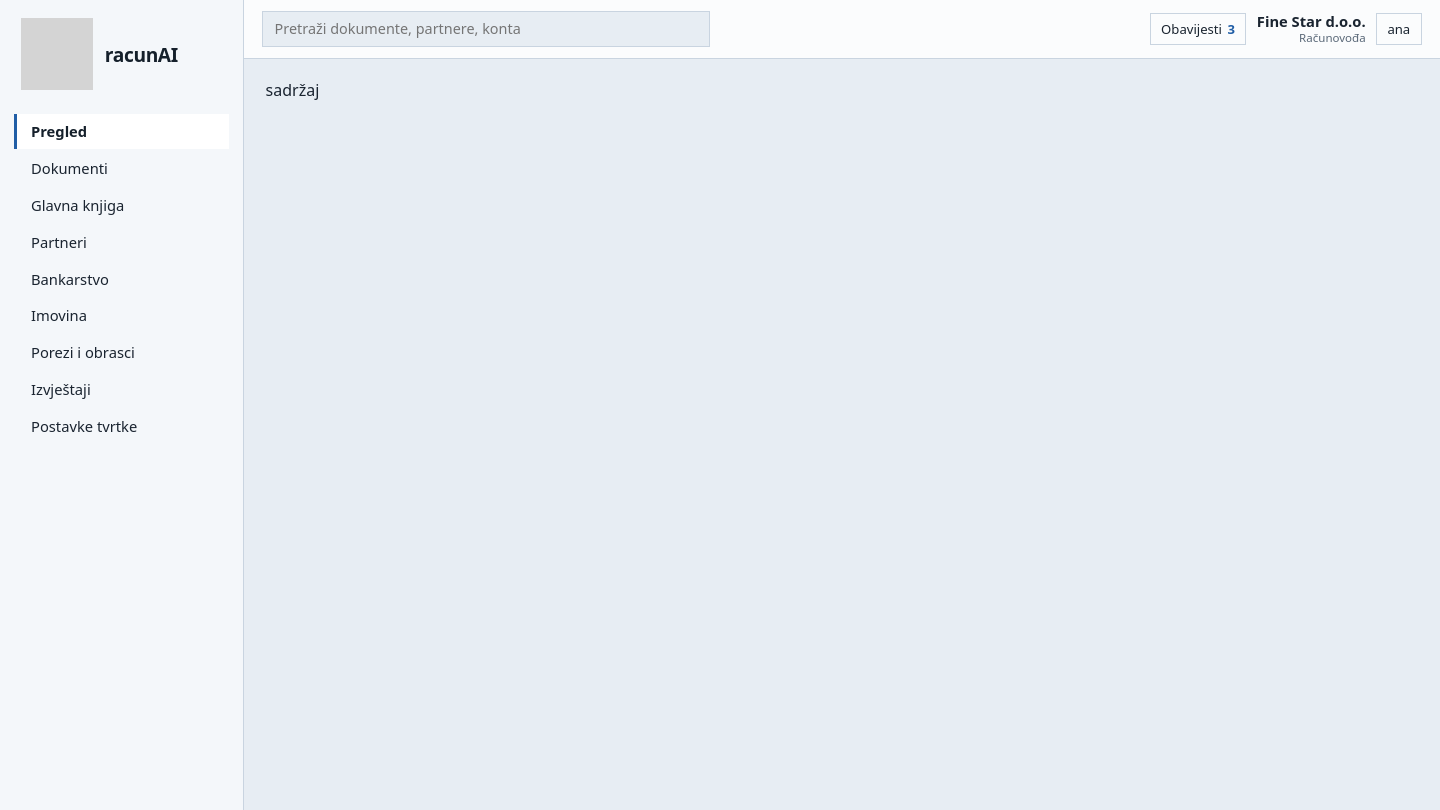
Test: AppShell › shows Admin only in the user menu when the backend flag is true
This screenshot has width=1440, height=810.
Expected: the text "Fine Star d.o.o." is shown, x1=1257 y1=13 x2=1366 y2=31
Expected: the navigation bar named "Glavna navigacija" does not show "Admin", x1=14 y1=114 x2=229 y2=444
Click the button with test id "user-menu": click(1399, 29) x1=1376 y1=13 x2=1422 y2=45
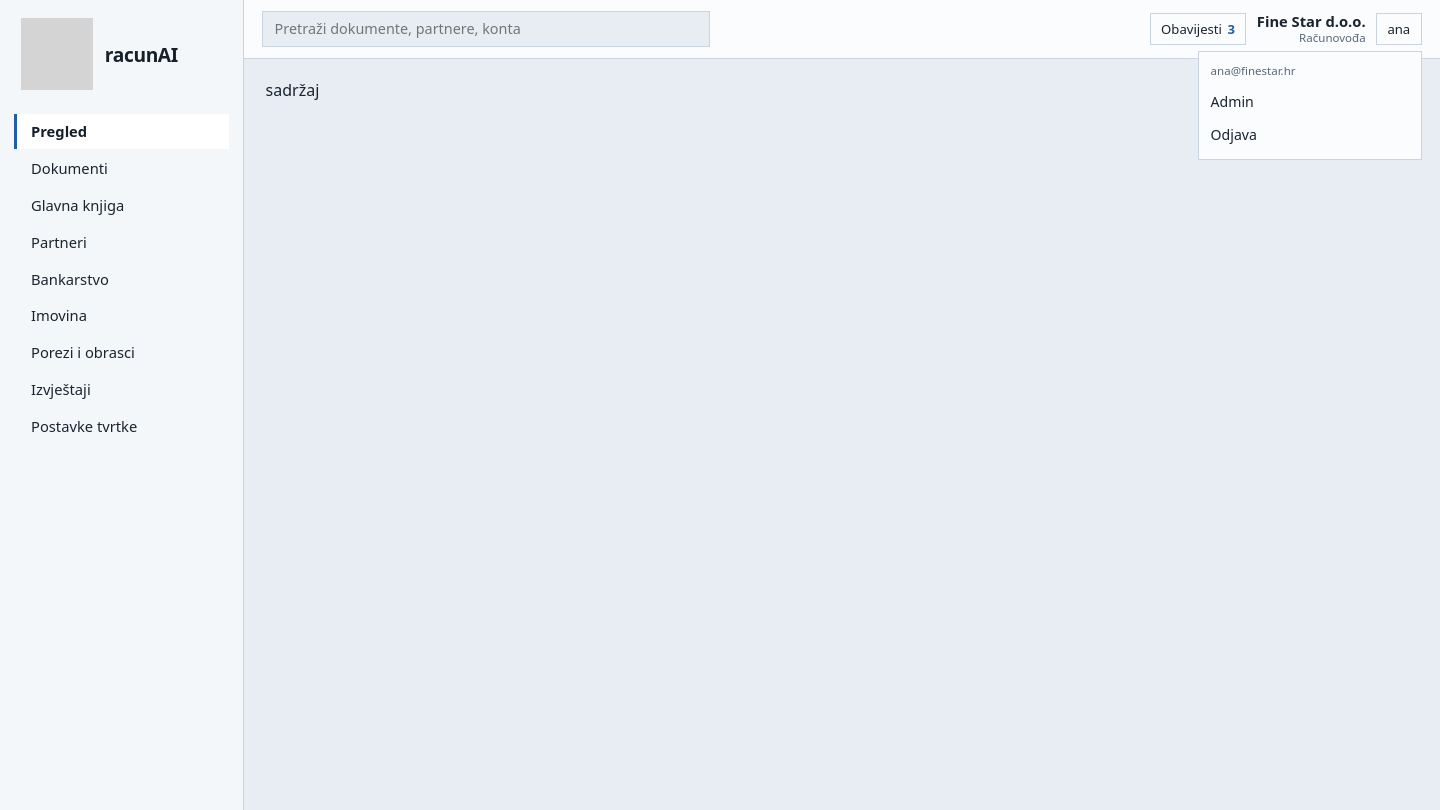
Result: the menu item with test id "django-admin-link" reads "Admin" at x1=1211 y1=92 x2=1254 y2=111
